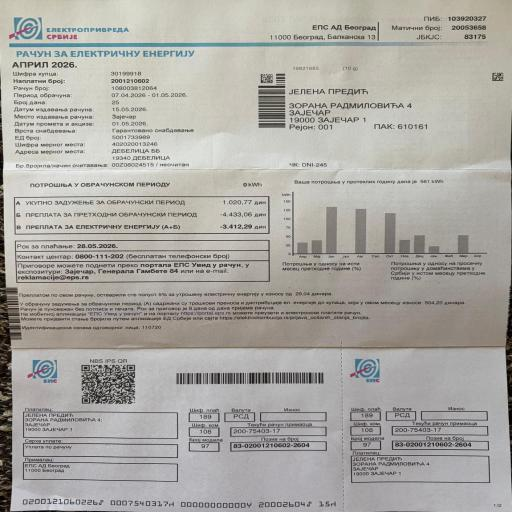racun_za_struju: (7, 179, 275, 251)
